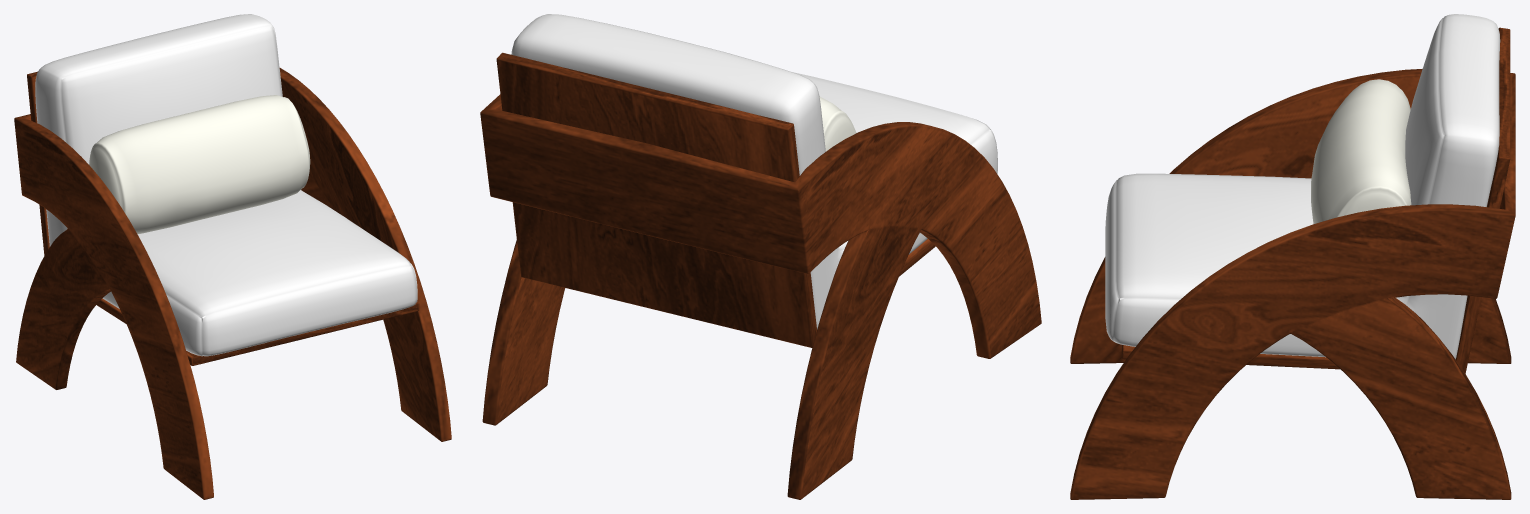
3 views of the same model, side by side, from view 1: azimuth 30°, elevation 25°; view 2: azimuth 150°, elevation 25°; view 3: azimuth 270°, elevation 25° (orthographic). The views are drawn at different scales.
Parts seen in each view (by area): view 1: Cube.003; view 2: Cube.003; view 3: Cube.003.
Part boxes in pixels (box(x1,y1,x2,y2)): Cube.003: box(14, 14, 451, 499); Cube.003: box(480, 14, 1041, 499); Cube.003: box(1070, 14, 1515, 499).
Bounding box in the file's own units: 0.7124 × 0.8435 × 0.9428.
1 material, 1 textured.
